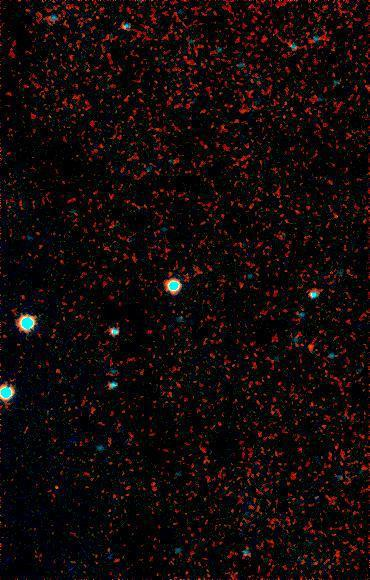star: (302, 334, 332, 364)
